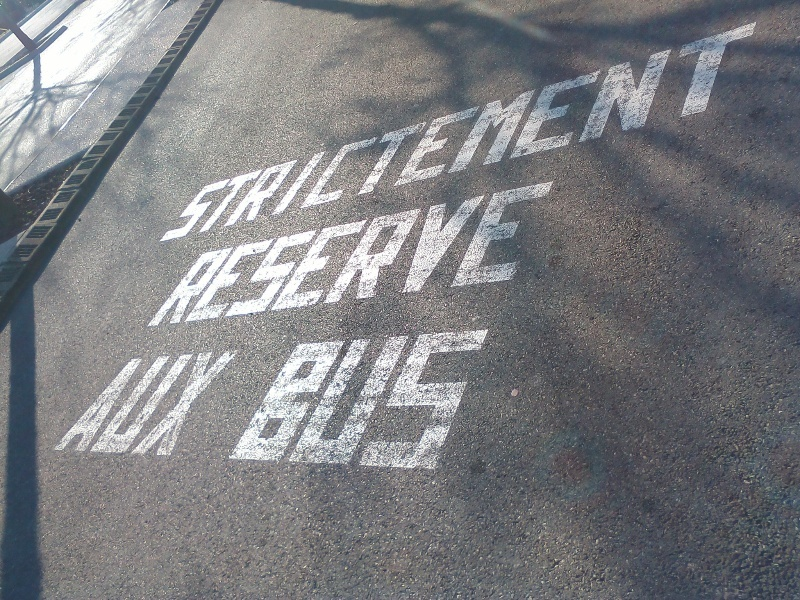text: (209, 19, 224, 246), (225, 19, 240, 246), (241, 19, 256, 246), (257, 19, 272, 246), (273, 19, 288, 246), (289, 19, 304, 246), (305, 19, 320, 246), (321, 19, 336, 246), (337, 19, 352, 246), (353, 19, 368, 246), (369, 19, 384, 246), (385, 19, 400, 246), (401, 19, 416, 246), (417, 19, 432, 246), (433, 19, 448, 246), (449, 19, 464, 246), (465, 19, 480, 246), (481, 19, 496, 246), (497, 19, 512, 246), (513, 19, 528, 246), (529, 19, 544, 246), (545, 19, 560, 246), (561, 19, 576, 246), (577, 19, 592, 246), (593, 19, 608, 246), (609, 19, 624, 246), (625, 19, 640, 246), (641, 19, 656, 246), (657, 19, 672, 246), (673, 19, 688, 246), (689, 19, 704, 246), (705, 19, 720, 246), (721, 19, 736, 246), (737, 19, 752, 246), (753, 19, 763, 246), (209, 179, 224, 330), (225, 179, 240, 330), (241, 179, 256, 330), (257, 179, 272, 330), (273, 179, 288, 330), (289, 179, 304, 330), (305, 179, 320, 330), (321, 179, 336, 330), (337, 179, 352, 330), (353, 179, 368, 330), (369, 179, 384, 330), (385, 179, 400, 330), (401, 179, 416, 330), (417, 179, 432, 330), (433, 179, 448, 330), (449, 179, 464, 330), (465, 179, 480, 330), (481, 179, 496, 330), (497, 179, 512, 330), (513, 179, 528, 330), (529, 179, 544, 330), (545, 179, 560, 330), (305, 326, 320, 471), (321, 326, 336, 471), (337, 326, 352, 471), (353, 326, 368, 471), (369, 326, 384, 471), (385, 326, 400, 471), (401, 326, 416, 471), (417, 326, 432, 471), (433, 326, 448, 471), (449, 326, 464, 471), (465, 326, 480, 471), (481, 326, 495, 471), (145, 348, 160, 462), (161, 348, 176, 462), (177, 348, 192, 462), (193, 348, 208, 462), (209, 348, 224, 462), (225, 348, 240, 462), (130, 348, 144, 462), (202, 19, 208, 246), (298, 326, 304, 471), (203, 179, 208, 330)
